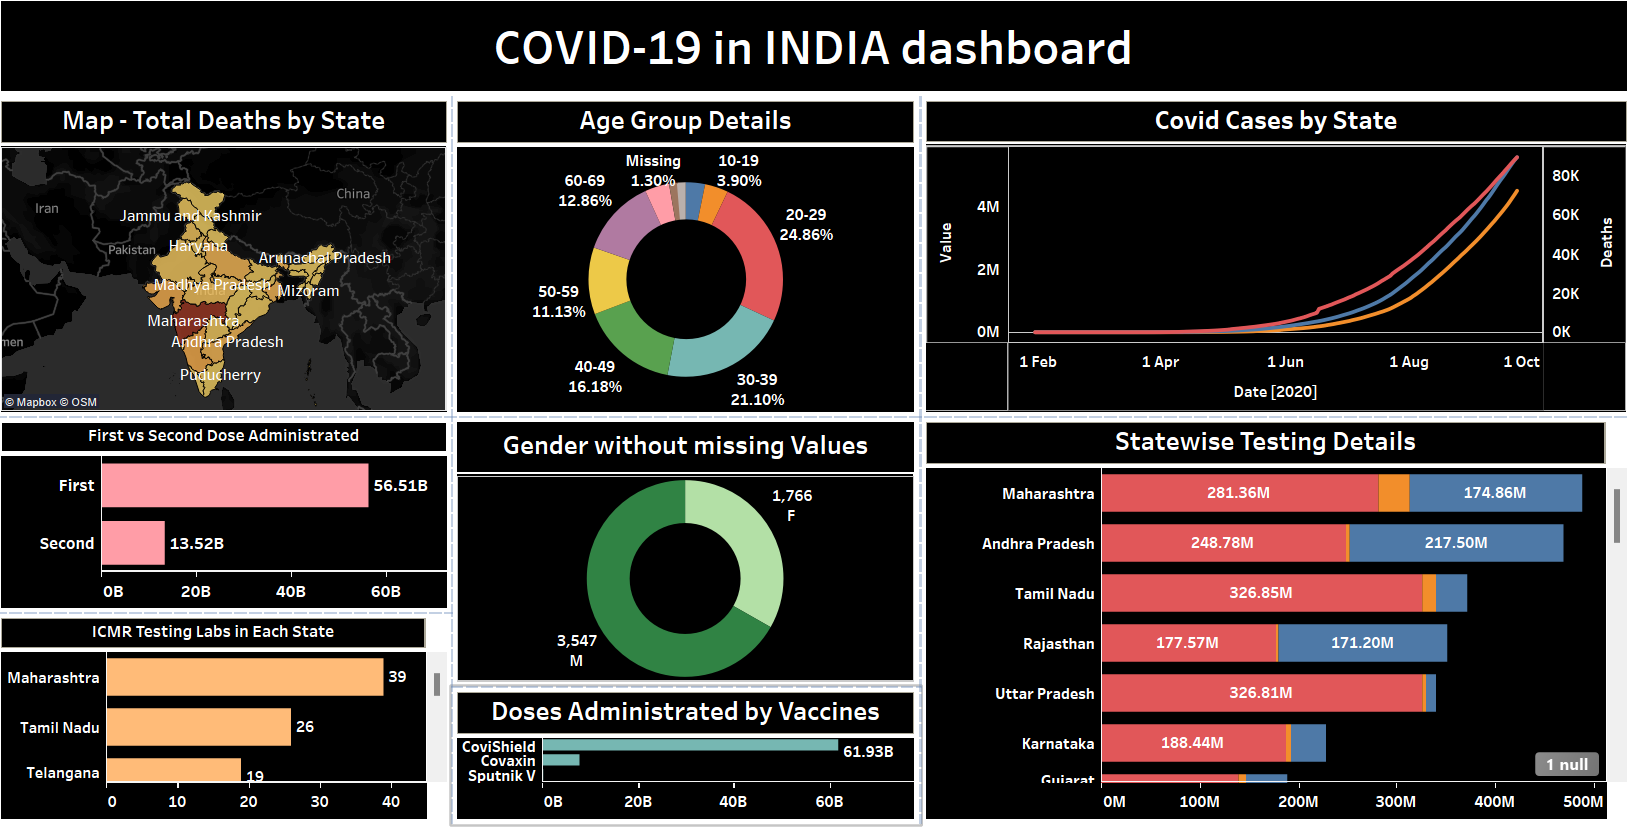

The page's visual inventory and layout, read from the dashboard file:
{"tool":"tableau","page":{"name":"Covid-19 Dashboard","canvas":[1000,1000],"units":"permille","ordinal":0},"visuals":[{"type":"worksheet","title":"Title","mark":"Automatic","box":[6,11.8,987.9,117.8]},{"type":"worksheet","title":"Map - Total Deaths by State","mark":"Automatic","box":[6,129.6,275.8,378.4]},{"type":"worksheet","title":"Age Group Details","mark":"Pie","rows":["Calculation_1819735760407138306","Calculation_1819735760407138306"],"box":[281.8,129.6,282.6,378.5]},{"type":"worksheet","title":"Covid Cases by State","mark":"Line","rows":["Deaths"],"cols":["Date"],"box":[564.4,129.6,429.6,378.4]},{"type":"worksheet","title":"First vs Second Dose Administrated","mark":"Automatic","box":[6,508,275.8,231.5]},{"type":"worksheet","title":"Statewise Testing Details","mark":"Automatic","rows":["State"],"box":[564.4,508,429.6,480.2]},{"type":"worksheet","title":"Gender without missing Values","mark":"Pie","rows":["Calculation_1819735760410460164","Calculation_1819735760410460164"],"box":[281.8,508.1,282.6,318.1]},{"type":"worksheet","title":"ICMR Testing Labs in Each State","mark":"Automatic","rows":["state"],"cols":["lab"],"box":[6,739.5,275.8,248.7]},{"type":"worksheet","title":"Doses Administrated by Vaccines","mark":"Automatic","box":[281.8,826.2,282.6,162]}]}

Visuals, with their boxes on the dashboard's canvas, which has no fixed pixel size, in thousandths of its width and height (x1, y1, x2, y2). These are canvas units, not pixel positions in the 1629x832 screenshot, which may show the page scaled, cropped or inside an application window:
"Title" worksheet: crop(6, 12, 994, 130)
"Map - Total Deaths by State" worksheet: crop(6, 130, 282, 508)
"Age Group Details" worksheet (Pie marks): crop(282, 130, 564, 508)
"Covid Cases by State" worksheet (Line marks): crop(564, 130, 994, 508)
"First vs Second Dose Administrated" worksheet: crop(6, 508, 282, 740)
"Statewise Testing Details" worksheet: crop(564, 508, 994, 988)
"Gender without missing Values" worksheet (Pie marks): crop(282, 508, 564, 826)
"ICMR Testing Labs in Each State" worksheet: crop(6, 740, 282, 988)
"Doses Administrated by Vaccines" worksheet: crop(282, 826, 564, 988)
